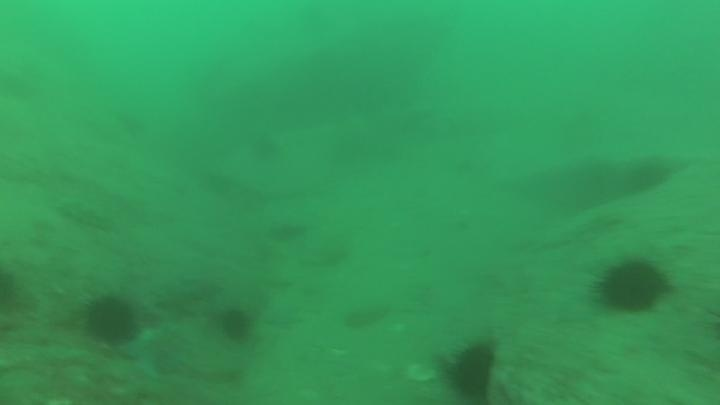echinus: (591, 254, 673, 317), (441, 337, 501, 403), (81, 291, 141, 348), (623, 156, 673, 197), (217, 305, 255, 345), (267, 210, 305, 250), (246, 124, 284, 164)
holothurian: (54, 196, 116, 233)
starfish: (119, 321, 196, 381)
